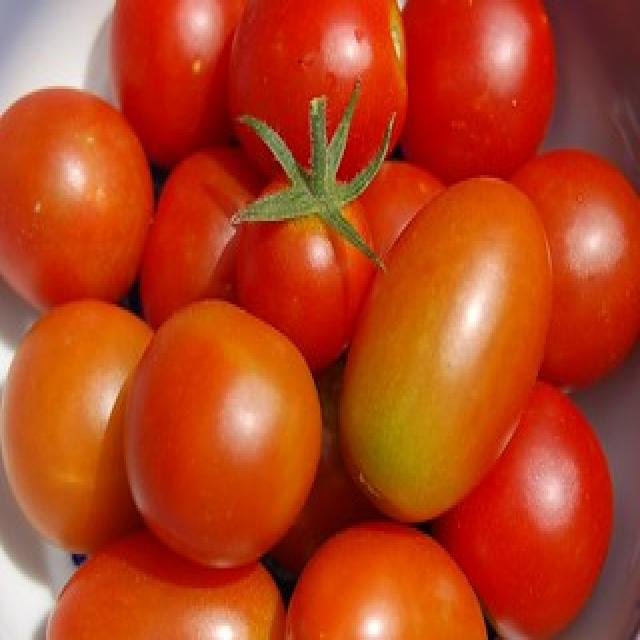Tomato: (334, 172, 557, 524), (118, 292, 326, 578), (4, 304, 159, 558), (0, 84, 159, 309), (233, 160, 386, 377), (383, 4, 563, 188), (228, 0, 406, 181), (108, 1, 253, 170)
